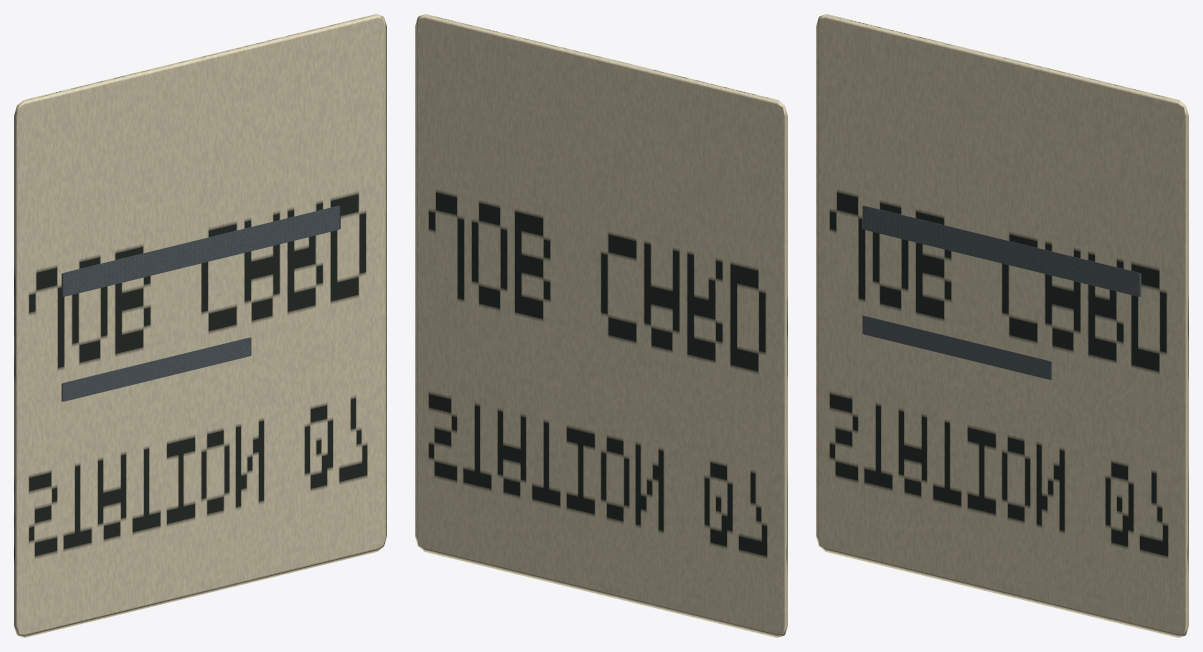
The model's file is job-card.glb.
3 views of the same model, side by side, from view 1: azimuth 30°, elevation 25°; view 2: azimuth 150°, elevation 25°; view 3: azimuth 330°, elevation 25° (orthographic).
Visible parts, largest first — view 1: board, stripe, line; view 2: board; view 3: board, stripe, line.
Part boxes in pixels (box(x1,y1,x2,y2)): board: box(14, 14, 386, 637); stripe: box(61, 205, 340, 296); line: box(61, 337, 251, 401); board: box(415, 14, 787, 637); board: box(816, 14, 1188, 637); stripe: box(862, 205, 1141, 296); line: box(862, 315, 1051, 379).
Size of the model in its own units: 0.21 by 0.29 by 0.00136.
2 materials, 2 textured.
